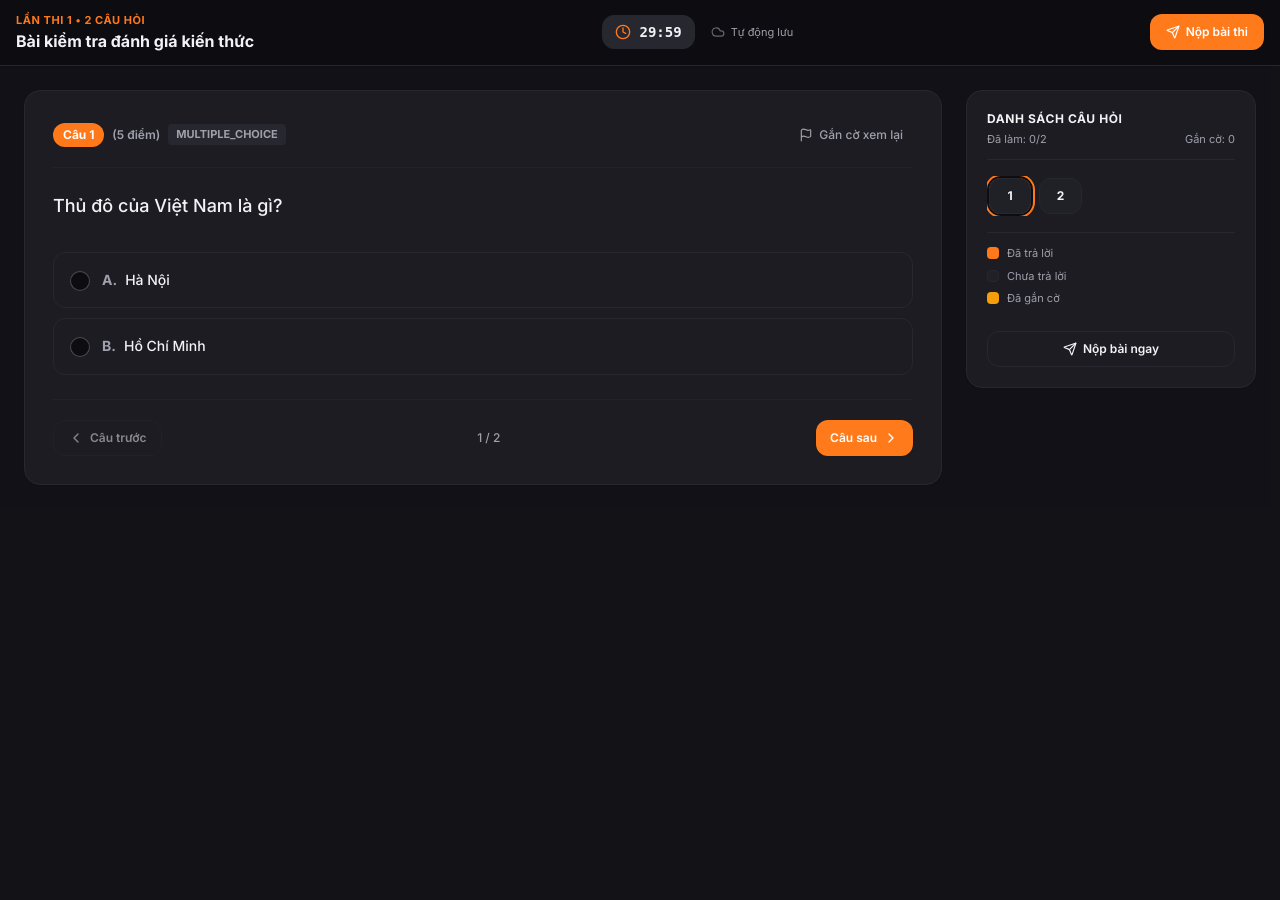
T-S7-FE-02: Quiz Player Suite (SCR-LRN-02, 03, 04) › QuizPlayerPage: renders countdown timer, question navigation, answers and incomplete warning
Expected: the text "Thủ đô của Việt Nam là gì?" is shown, x1=53 y1=194 x2=282 y2=216
Expected: the text "Câu 1" is shown, x1=53 y1=122 x2=104 y2=146
Note: Select option A (Hà Nội)
Click the text "Hà Nội".
click(136, 279)  # box x1=102 y1=270 x2=170 y2=288
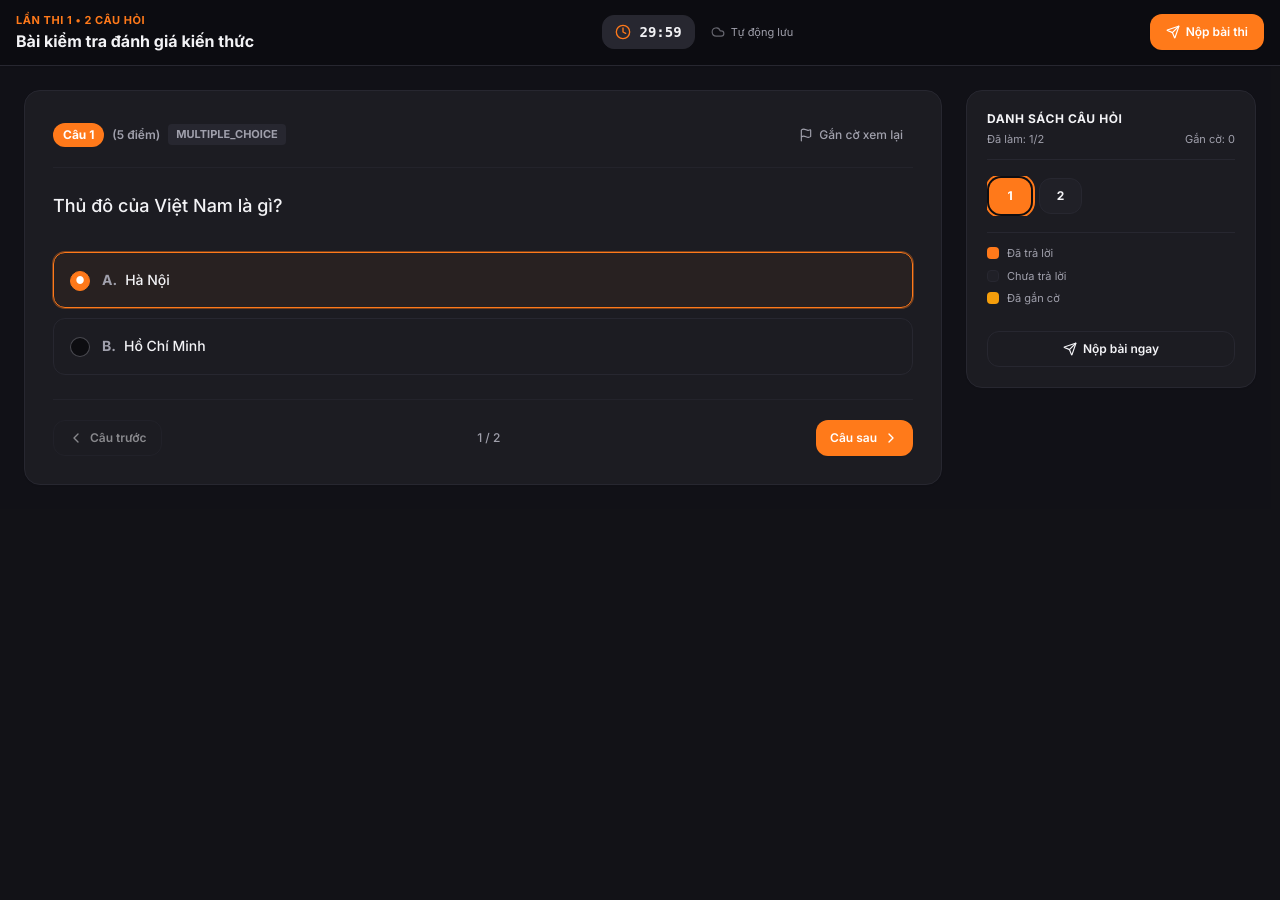
Note: Flag question
Click the button "Gắn cờ xem lại".
click(851, 134)  # box x1=789 y1=118 x2=913 y2=150
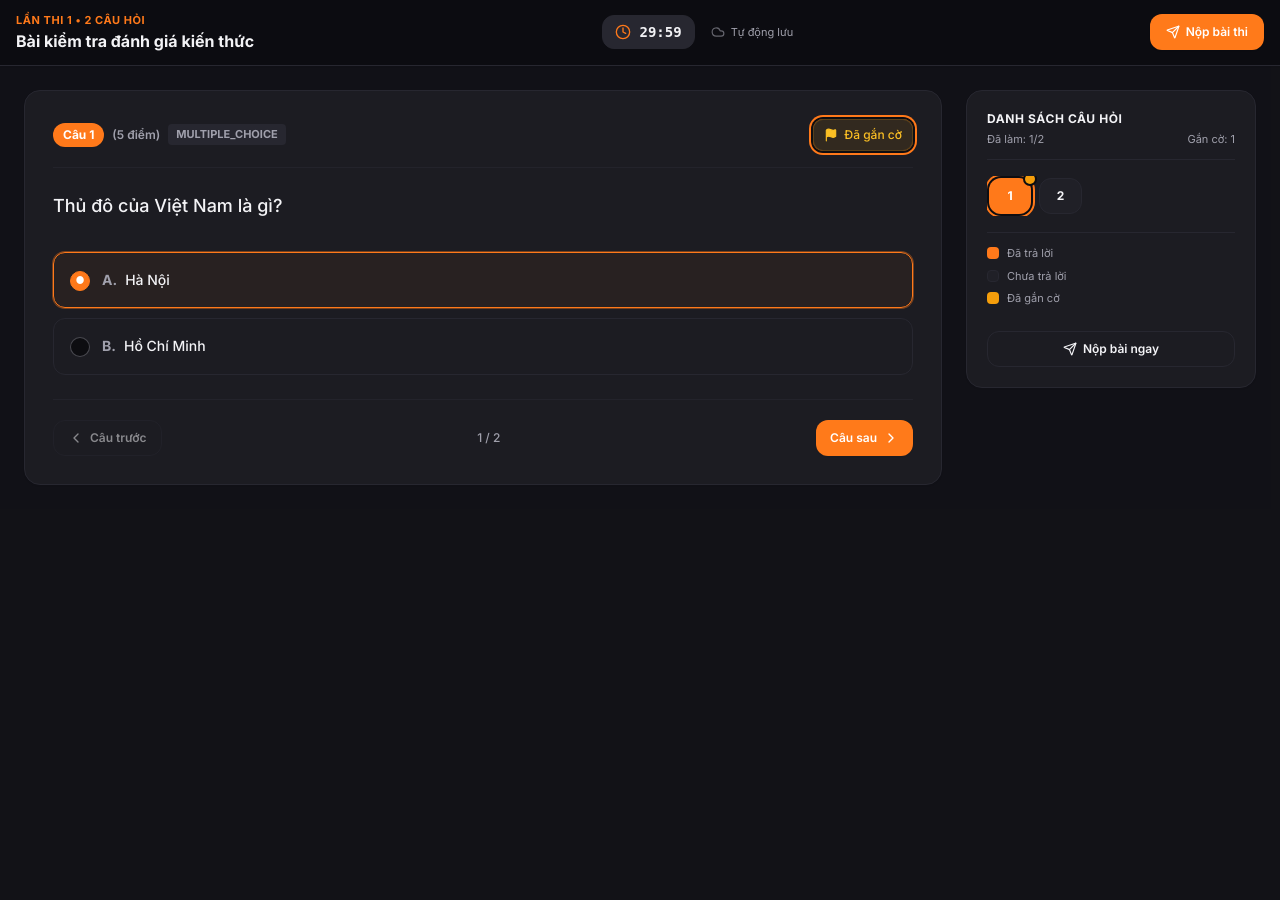
Now the button "Đã gắn cờ" is shown, box x1=813 y1=118 x2=913 y2=150
Note: Next question (Câu sau)
Click the button "Câu sau".
click(864, 438)  # box x1=816 y1=420 x2=913 y2=456
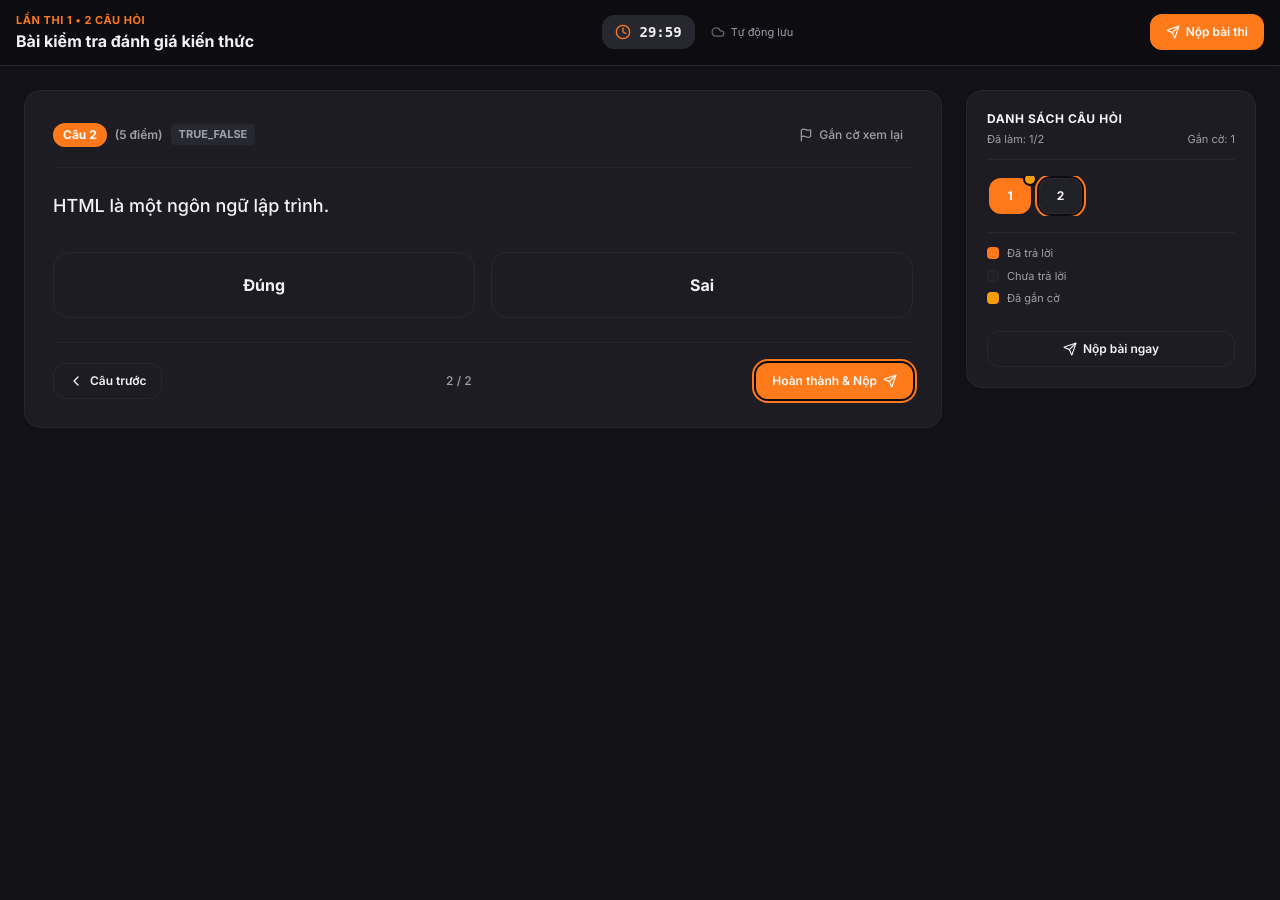
Now the text "HTML là một ngôn ngữ lập trình." is shown, box x1=53 y1=194 x2=329 y2=216
Now the text "Câu 2" is shown, box x1=53 y1=122 x2=107 y2=146
Click the button "Nộp bài thi".
click(1207, 32)  # box x1=1150 y1=14 x2=1264 y2=50
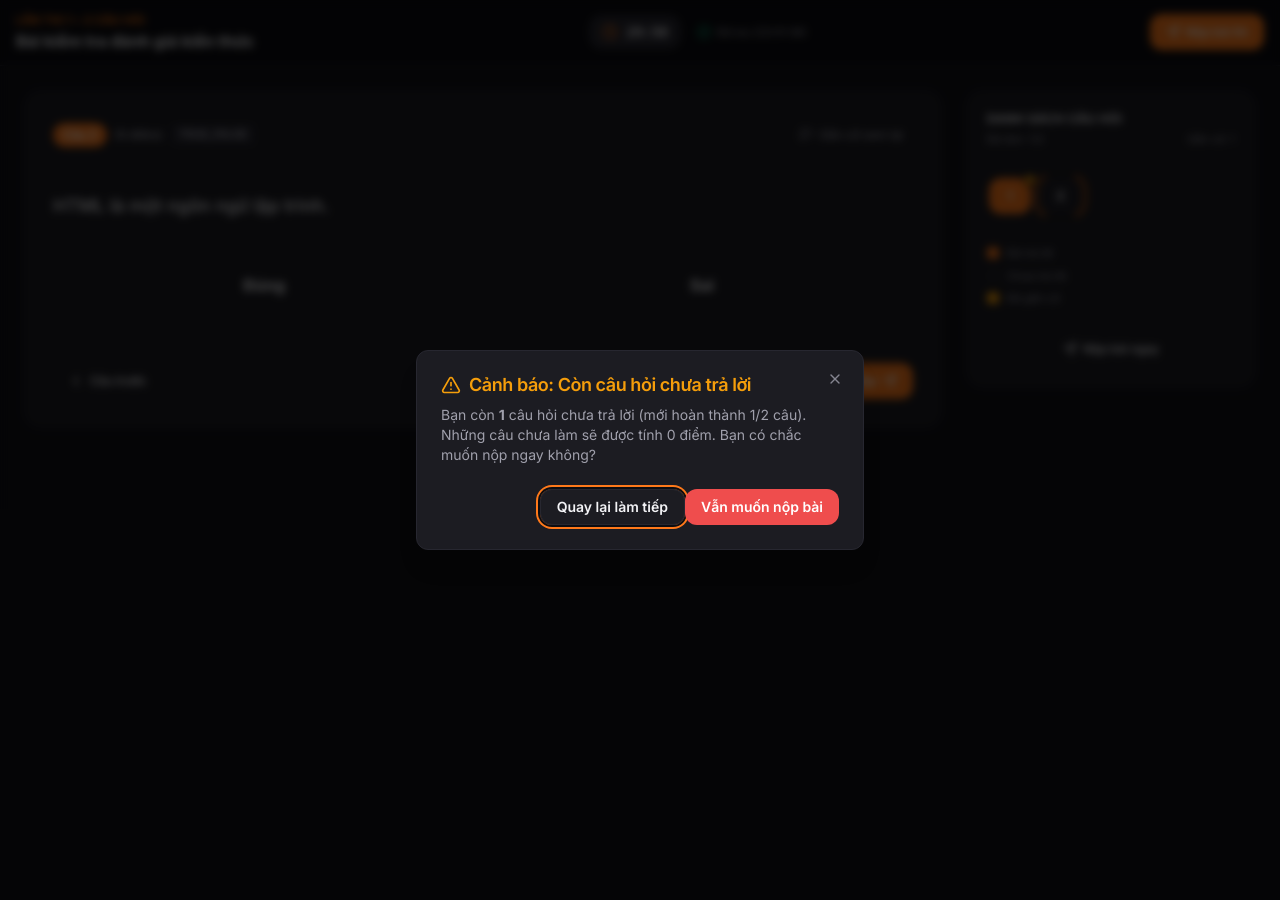
Now the heading "Cảnh báo: Còn câu hỏi chưa trả lời" is shown, box x1=469 y1=376 x2=751 y2=394
Now the text "Bạn còn" is shown, box x1=441 y1=406 x2=499 y2=423
Now the button "Vẫn muốn nộp bài" is shown, box x1=685 y1=489 x2=839 y2=525
